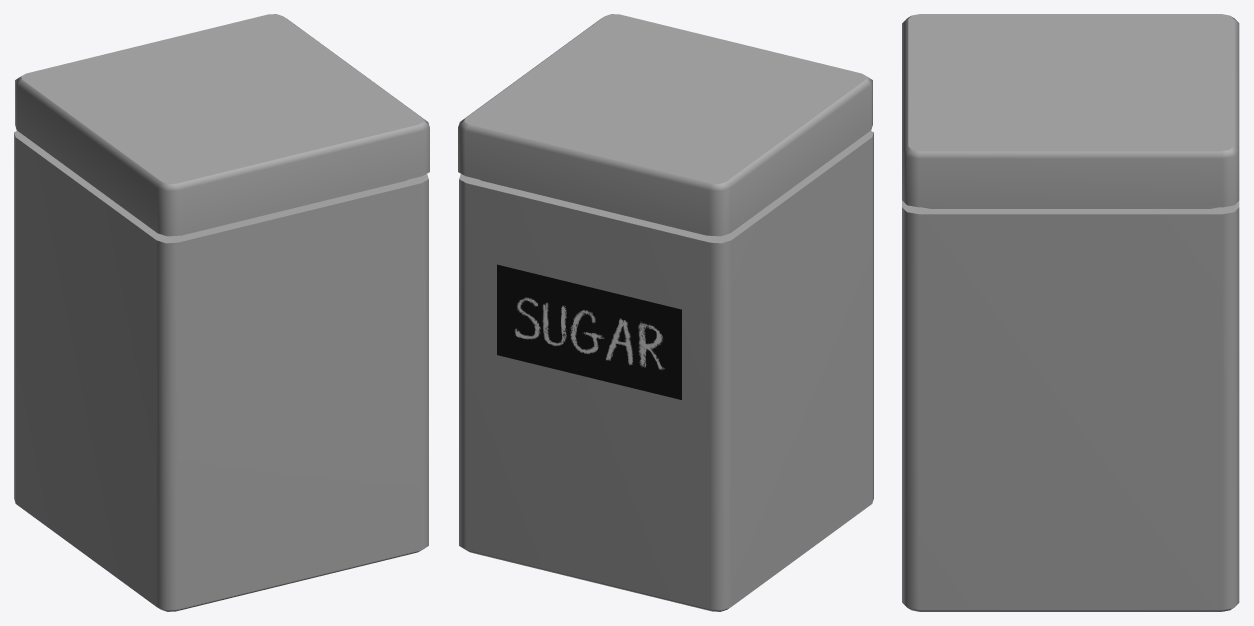
The model's file is Jars.fbx.
3 views of the same model, side by side, from view 1: azimuth 30°, elevation 25°; view 2: azimuth 150°, elevation 25°; view 3: azimuth 270°, elevation 25° (orthographic). The views are drawn at different scales.
Parts seen in each view (by area): view 1: Sugar2, ContainerLLid; view 2: Sugar2, ContainerLLid; view 3: Sugar2, ContainerLLid.
Boxes of the visible parts, x1,y1,x2,y2 form: Sugar2: (14, 130, 428, 611); ContainerLLid: (15, 14, 429, 236); Sugar2: (459, 130, 873, 611); ContainerLLid: (458, 14, 872, 236); Sugar2: (902, 200, 1239, 611); ContainerLLid: (902, 14, 1239, 208).
Size of the model in its own units: 9.78 by 14.7 by 9.76.
Materials: 1 (1 with a texture image).
